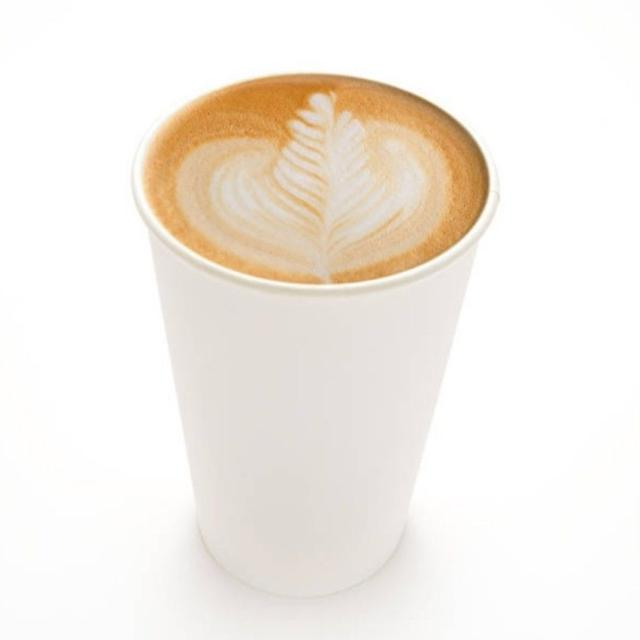paper cup: (129, 70, 502, 600)
